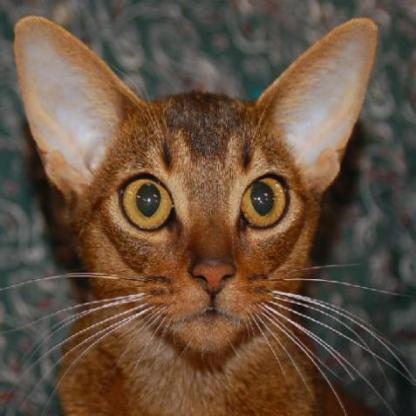cat: (14, 15, 378, 415)
